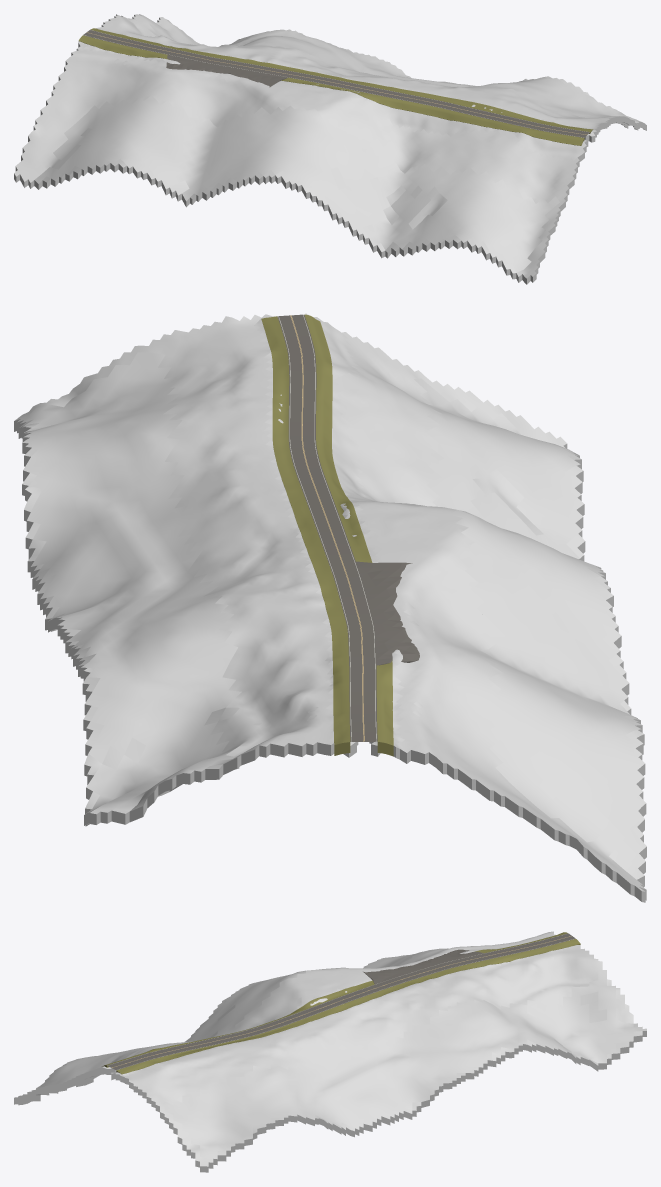
File: conz_164.glb
The picture shows the model from 3 angles, top to bottom: view 1: azimuth 30°, elevation 25°; view 2: azimuth 150°, elevation 25°; view 3: azimuth 270°, elevation 25°; orthographic projection. The views are drawn at different scales.
Parts seen in each view (by area): view 1: terrain164, road164, verge164L, verge164R, lot164_14, paint_yellow164; view 2: terrain164, road164, verge164R, verge164L, lot164_14, paint_white164, paint_yellow164; view 3: terrain164, road164, verge164R, verge164L, lot164_14, paint_yellow164.
Part boxes in pixels (x1,y1,x2,y2): terrain164: (14, 14, 646, 284); road164: (83, 29, 589, 137); verge164L: (78, 35, 584, 145); verge164R: (90, 28, 593, 133); lot164_14: (166, 55, 287, 87); paint_yellow164: (87, 32, 587, 134); terrain164: (14, 313, 646, 902); road164: (277, 314, 377, 741); verge164R: (261, 316, 350, 755); verge164L: (304, 314, 393, 756); lot164_14: (356, 561, 419, 665); paint_white164: (278, 314, 376, 741); paint_yellow164: (290, 315, 364, 741); terrain164: (14, 931, 646, 1172); road164: (107, 933, 575, 1070); verge164R: (116, 939, 580, 1074); verge164L: (102, 932, 567, 1067); lot164_14: (363, 949, 483, 984); paint_yellow164: (112, 936, 571, 1067).
Size of the model in its own units: 254 by 49.02 by 286.
